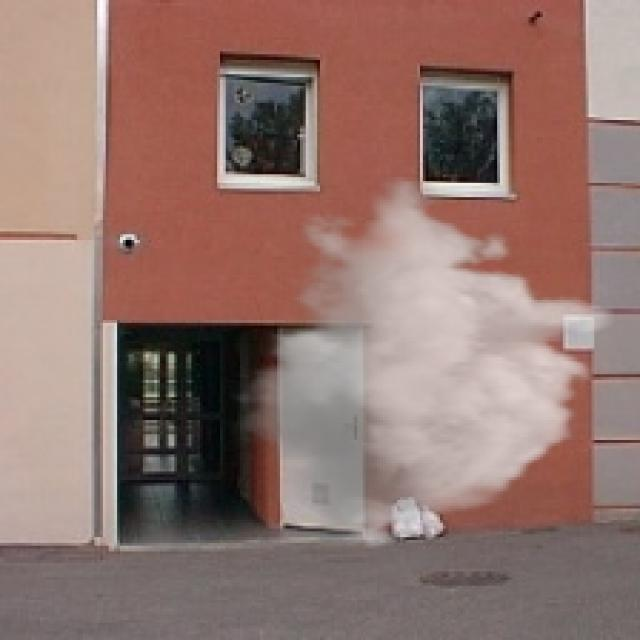smoke: (229, 174, 620, 552)
